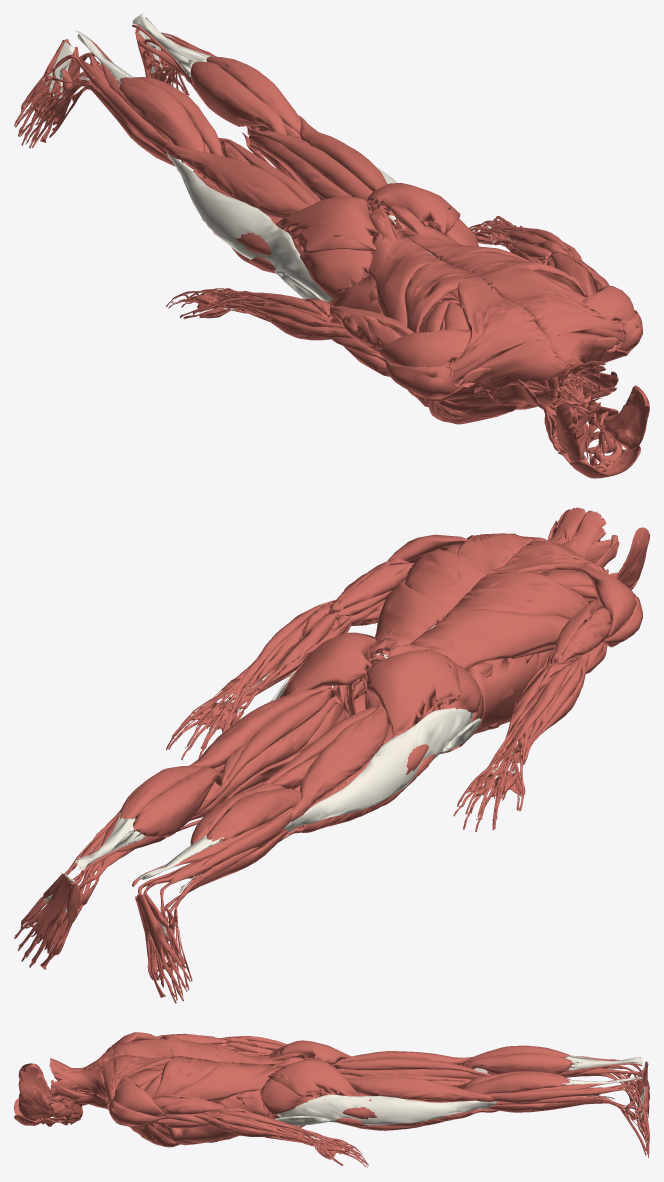
Rendered from anatomy-lite.glb.
3 views of the same model, one above another, from view 1: azimuth 30°, elevation 25°; view 2: azimuth 150°, elevation 25°; view 3: azimuth 270°, elevation 25° (orthographic). The views are drawn at different scales.
Visible parts, largest first — view 1: right latissimus dorsi, right iliotibial tract, right gluteus maximus, long head of right biceps femoris, left latissimus dorsi, medial head of left gastrocnemius, lateral head of right gastrocnemius, ascending part of left trapezius, ascending part of right trapezius, descending part of right trapezius, spinal part of right deltoid, right gluteus medius (+28 smaller); view 2: right latissimus dorsi, right iliotibial tract, left latissimus dorsi, right gluteus maximus, long head of right biceps femoris, left gluteus maximus, medial head of left gastrocnemius, right external oblique, long head of left biceps femoris, lateral head of right gastrocnemius, left semimembranosus, left semitendinosus (+28 smaller); view 3: left latissimus dorsi, left iliotibial tract, long head of left biceps femoris, left gluteus maximus, medial head of right gastrocnemius, left external oblique, right latissimus dorsi, lateral head of left gastrocnemius, right semitendinosus, spinal part of left deltoid, left gluteus medius, ascending part of left trapezius (+40 smaller).
Part boxes in pixels (x1,y1,x2,y2): right latissimus dorsi: [367, 224, 488, 332]; right iliotibial tract: [166, 152, 332, 302]; right gluteus maximus: [276, 196, 379, 253]; long head of right biceps femoris: [164, 143, 309, 218]; left latissimus dorsi: [389, 218, 586, 296]; medial head of left gastrocnemius: [190, 62, 287, 134]; lateral head of right gastrocnemius: [119, 77, 205, 173]; ascending part of left trapezius: [469, 267, 606, 322]; ascending part of right trapezius: [457, 270, 536, 357]; descending part of right trapezius: [476, 339, 585, 387]; spinal part of right deltoid: [379, 329, 470, 367]; right gluteus medius: [295, 246, 373, 300]; right latissimus dorsi: [388, 571, 585, 669]; right iliotibial tract: [284, 707, 473, 832]; left latissimus dorsi: [374, 550, 487, 656]; right gluteus maximus: [365, 650, 460, 737]; long head of right biceps femoris: [290, 704, 388, 821]; left gluteus maximus: [279, 632, 376, 697]; medial head of left gastrocnemius: [133, 767, 222, 837]; right external oblique: [459, 653, 549, 746]; long head of left biceps femoris: [190, 686, 331, 768]; lateral head of right gastrocnemius: [206, 788, 301, 841]; left semimembranosus: [196, 697, 336, 815]; left semitendinosus: [192, 687, 335, 817]; left latissimus dorsi: [154, 1055, 279, 1102]; left iliotibial tract: [277, 1094, 497, 1125]; long head of left biceps femoris: [346, 1076, 494, 1101]; left gluteus maximus: [267, 1058, 360, 1097]; medial head of right gastrocnemius: [465, 1054, 572, 1074]; left external oblique: [165, 1090, 270, 1145]; right latissimus dorsi: [160, 1035, 283, 1064]; lateral head of left gastrocnemius: [466, 1072, 569, 1094]; right semitendinosus: [332, 1058, 492, 1076]; spinal part of left deltoid: [113, 1077, 170, 1116]; left gluteus medius: [260, 1078, 317, 1114]; ascending part of left trapezius: [111, 1055, 200, 1095].
Bounding box in the file's own units: 639 × 251 × 1672.
